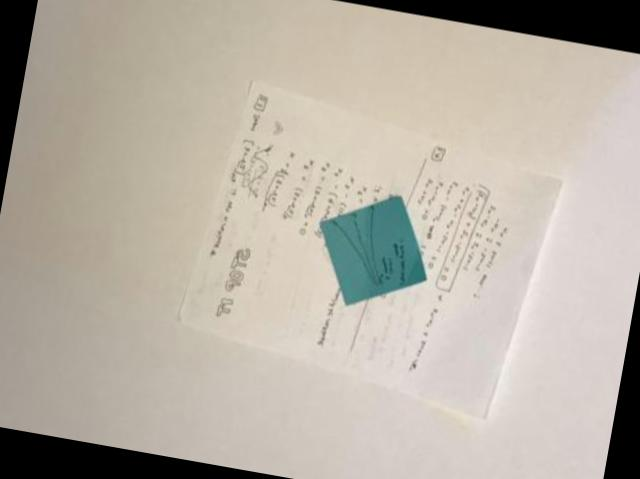cardboard paper: (183, 79, 563, 415), (320, 193, 429, 303)
